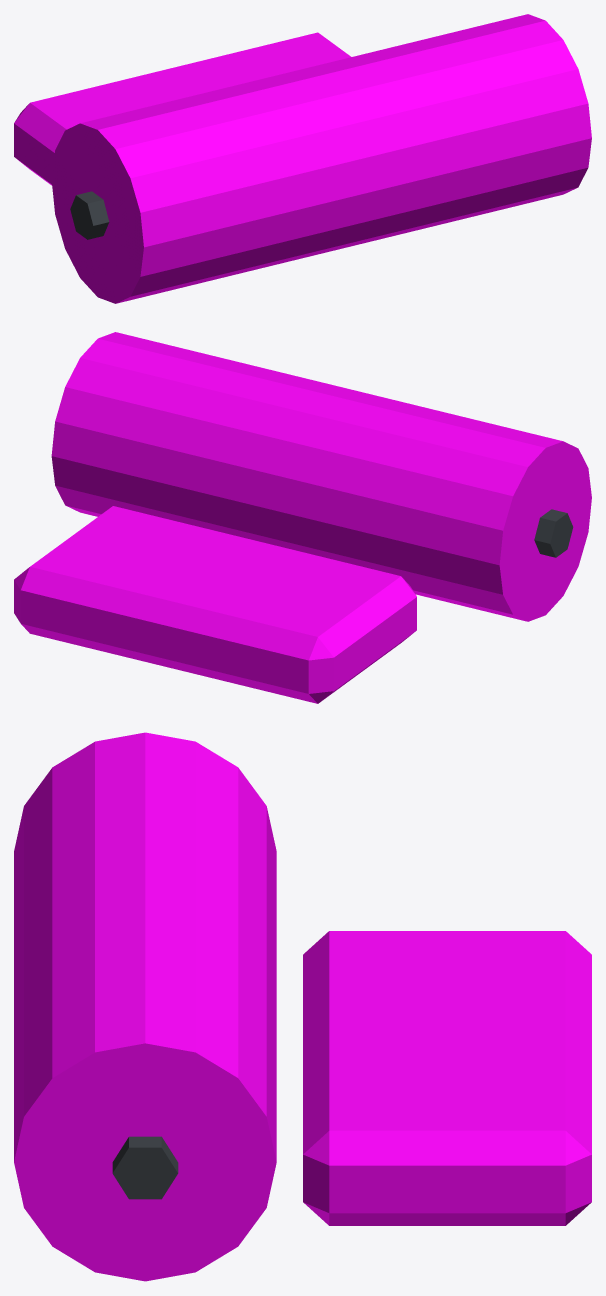
The model's file is objet_tissu.glb.
3 renders of one model, top to bottom at view 1: azimuth 30°, elevation 25°; view 2: azimuth 150°, elevation 25°; view 3: azimuth 270°, elevation 25°, orthographic. The views are drawn at different scales.
Parts seen in each view (by area): view 1: tissu_teinte.002, tissu_teinte_sombre.002; view 2: tissu_teinte.002, tissu_teinte_sombre.002; view 3: tissu_teinte.002, tissu_teinte_sombre.002.
Part boxes in pixels (bbox=[...]): tissu_teinte.002: bbox=[14, 14, 591, 303]; tissu_teinte_sombre.002: bbox=[70, 191, 109, 239]; tissu_teinte.002: bbox=[14, 332, 591, 703]; tissu_teinte_sombre.002: bbox=[534, 509, 573, 557]; tissu_teinte.002: bbox=[14, 732, 591, 1281]; tissu_teinte_sombre.002: bbox=[112, 1136, 178, 1199].
Bounding box in the file's own units: 0.3 × 0.1 × 0.22.
